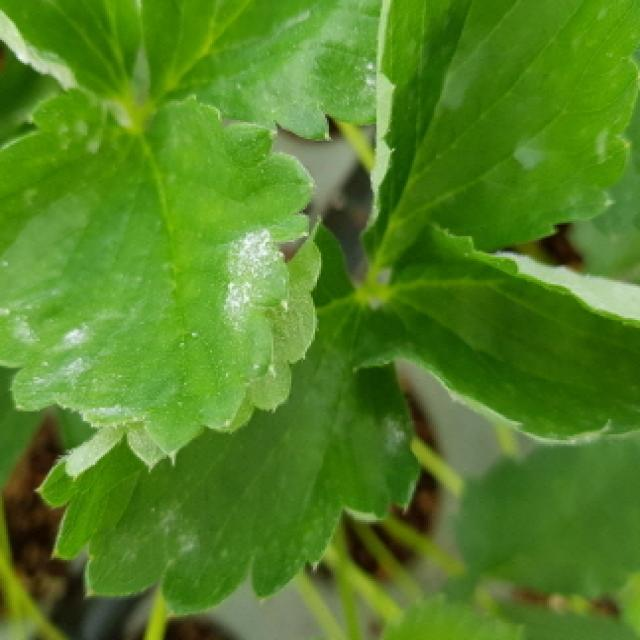Powdery Mildew Leaf: (32, 212, 422, 613), (0, 90, 320, 465), (356, 0, 640, 278), (351, 222, 640, 447), (136, 0, 384, 145)
